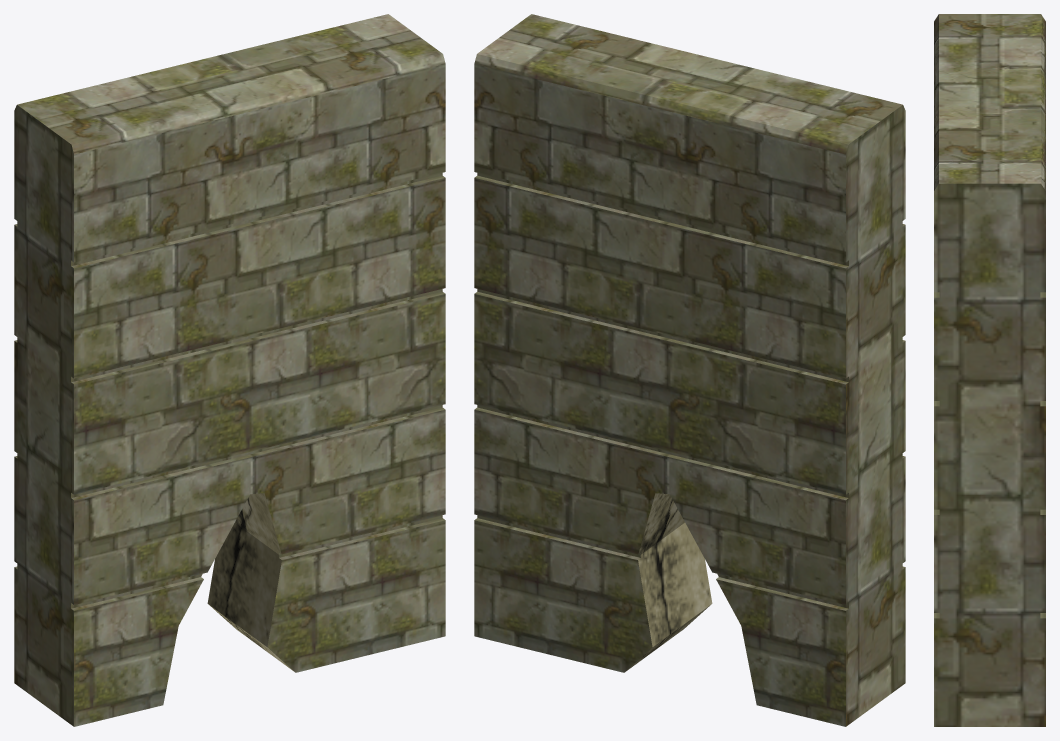
File: wall-02.fbx
3 views of the same model, side by side, from view 1: azimuth 30°, elevation 25°; view 2: azimuth 150°, elevation 25°; view 3: azimuth 270°, elevation 25° (orthographic). The views are drawn at different scales.
Visible parts, largest first — view 1: Cube.161; view 2: Cube.161; view 3: Cube.161.
Part boxes in pixels (left/top/right/bottom): Cube.161: left=14, top=14, right=445, bottom=726; Cube.161: left=474, top=14, right=905, bottom=726; Cube.161: left=934, top=14, right=1045, bottom=726.
Size of the model in its own units: 1.61 by 2.4 by 0.448.
